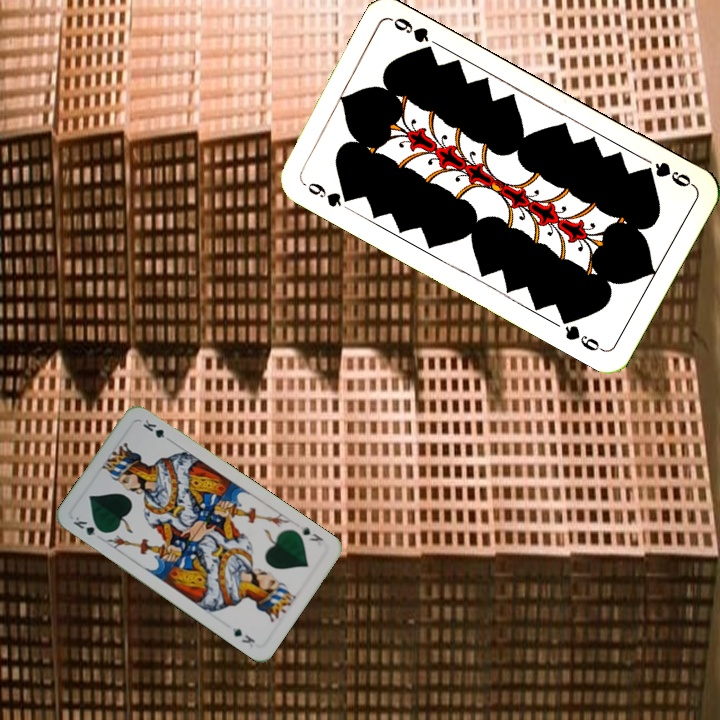G9: (638, 158, 697, 190), (298, 178, 356, 210)
GK: (69, 512, 107, 538), (296, 522, 326, 544)
